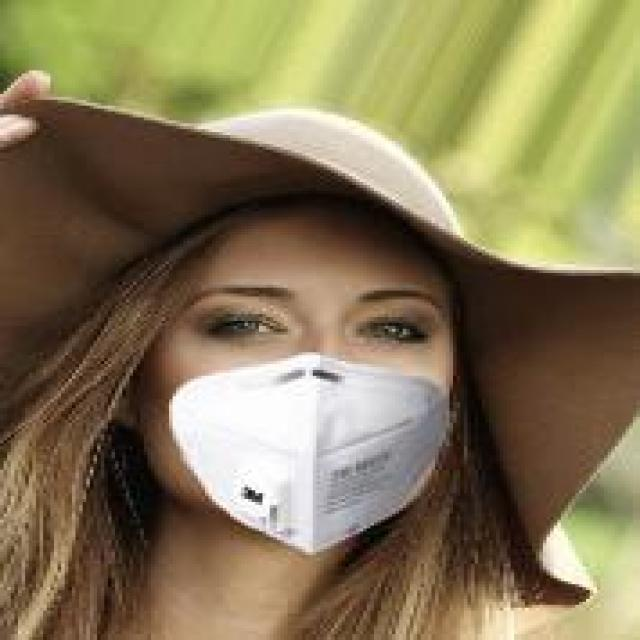mask: (36, 47, 496, 584)
